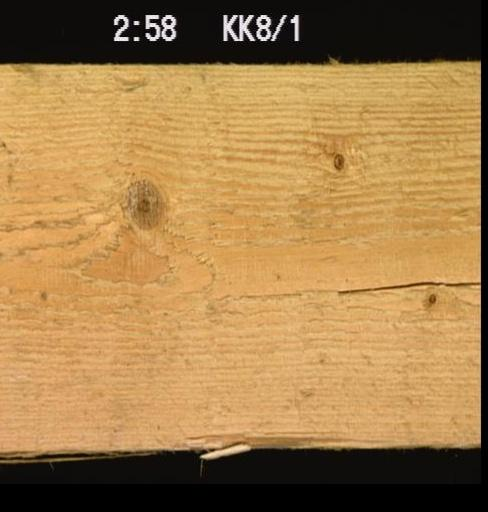dry_knot: (330, 151, 344, 171), (426, 291, 437, 304)
sound_knot: (125, 176, 162, 231)
split: (335, 279, 480, 293)
wave: (182, 431, 410, 461)
